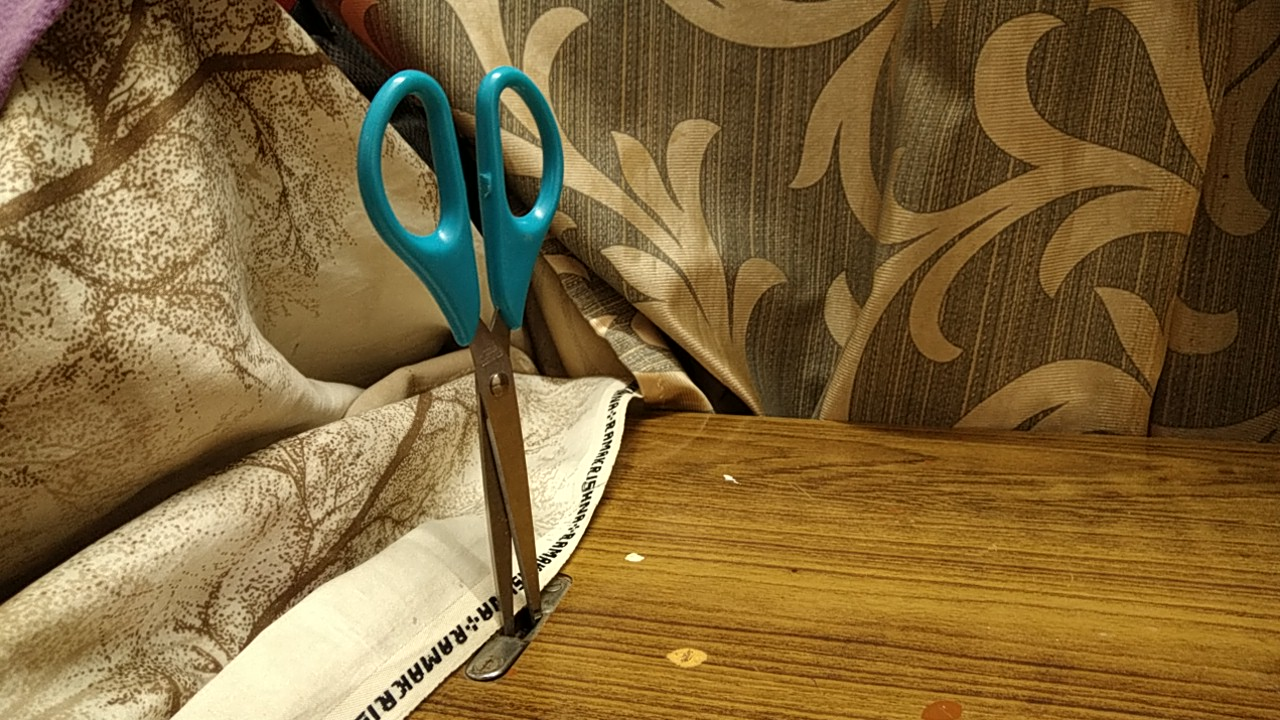scissor: (333, 50, 622, 654)
